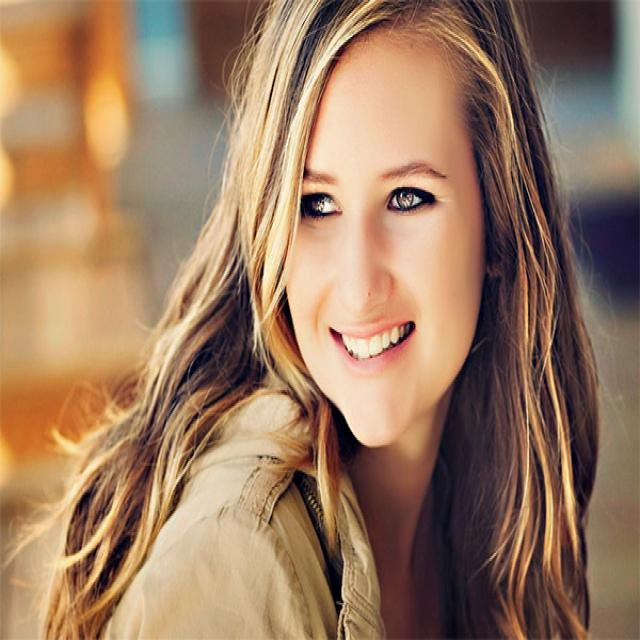human: (123, 4, 590, 640)
